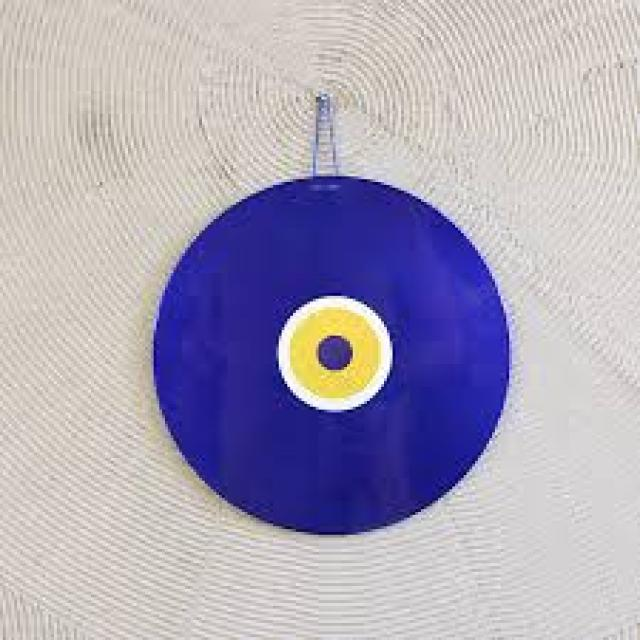Nazar-Boncugu: (151, 162, 518, 538)
